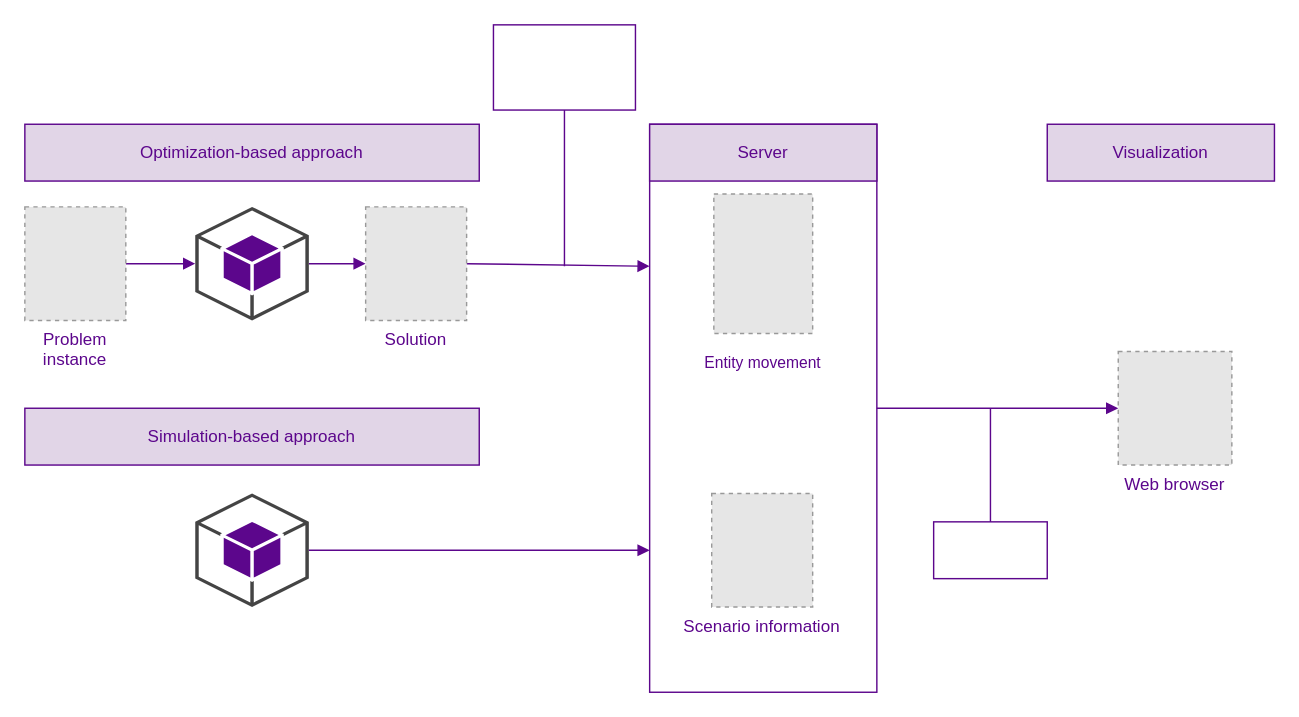
The diagram is 1299 pixels wide and 717 high, and some of its shapes have lost their labels. Grey dashed boxes stand in for pictures. Here are the shapes that lost their labels. From the top down, the centre of each, then its label:
At point 563,66: "Add time and scenario information".
At point 251,262: "Optimization technique".
At point 251,549: "Simulation model".
At point 989,549: "Message protocol".
